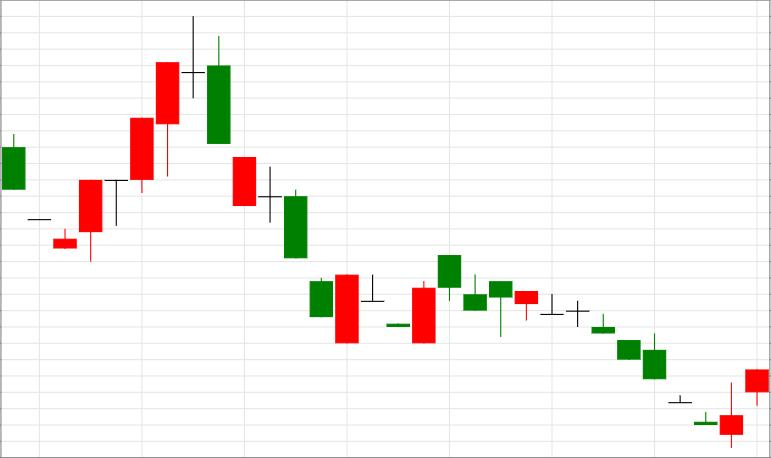bullish_engulfing_rise: (208, 35, 359, 344)
inverse_hammer_rise: (566, 301, 743, 447)
